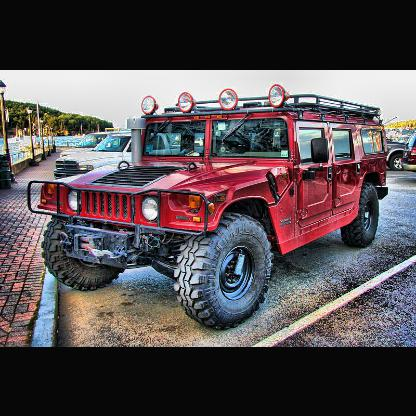AM General Hummer SUV 2000: (28, 83, 391, 333)
